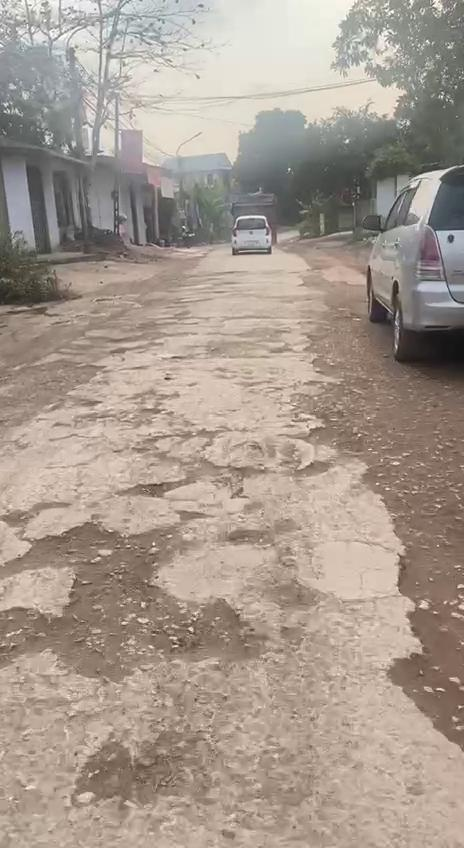pothole: (0, 516, 263, 674), (387, 545, 464, 749), (61, 736, 205, 806), (130, 426, 259, 500), (285, 395, 370, 478), (108, 459, 193, 502)
